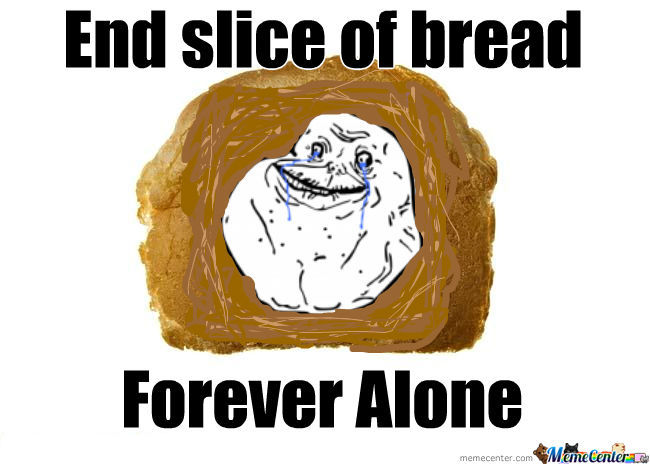slice of bread: (161, 305, 488, 365)
